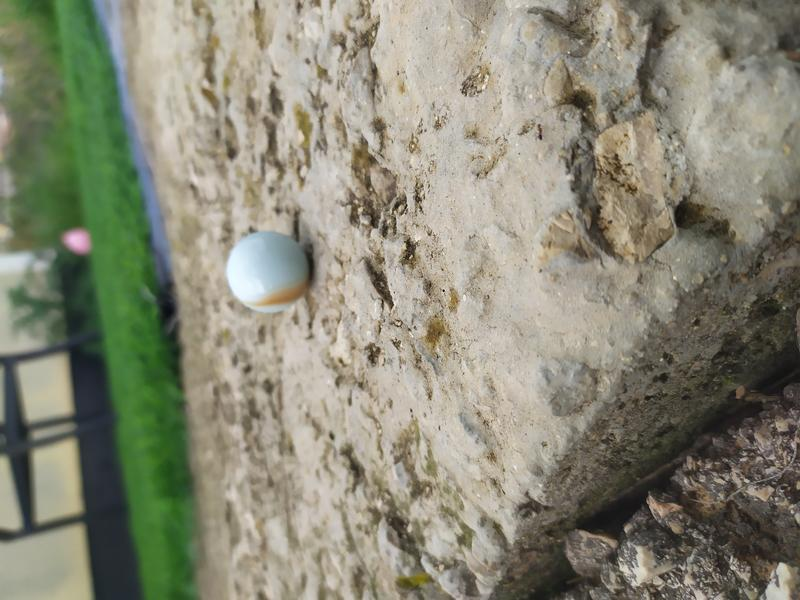Warning: (223, 228, 314, 315)
